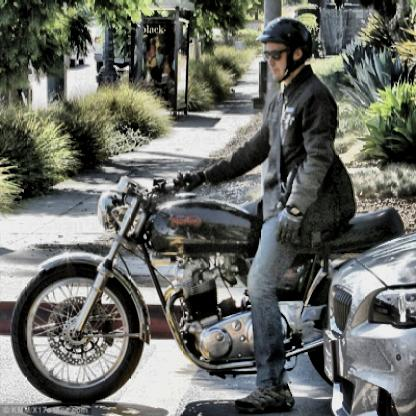wear: (260, 16, 310, 83)
